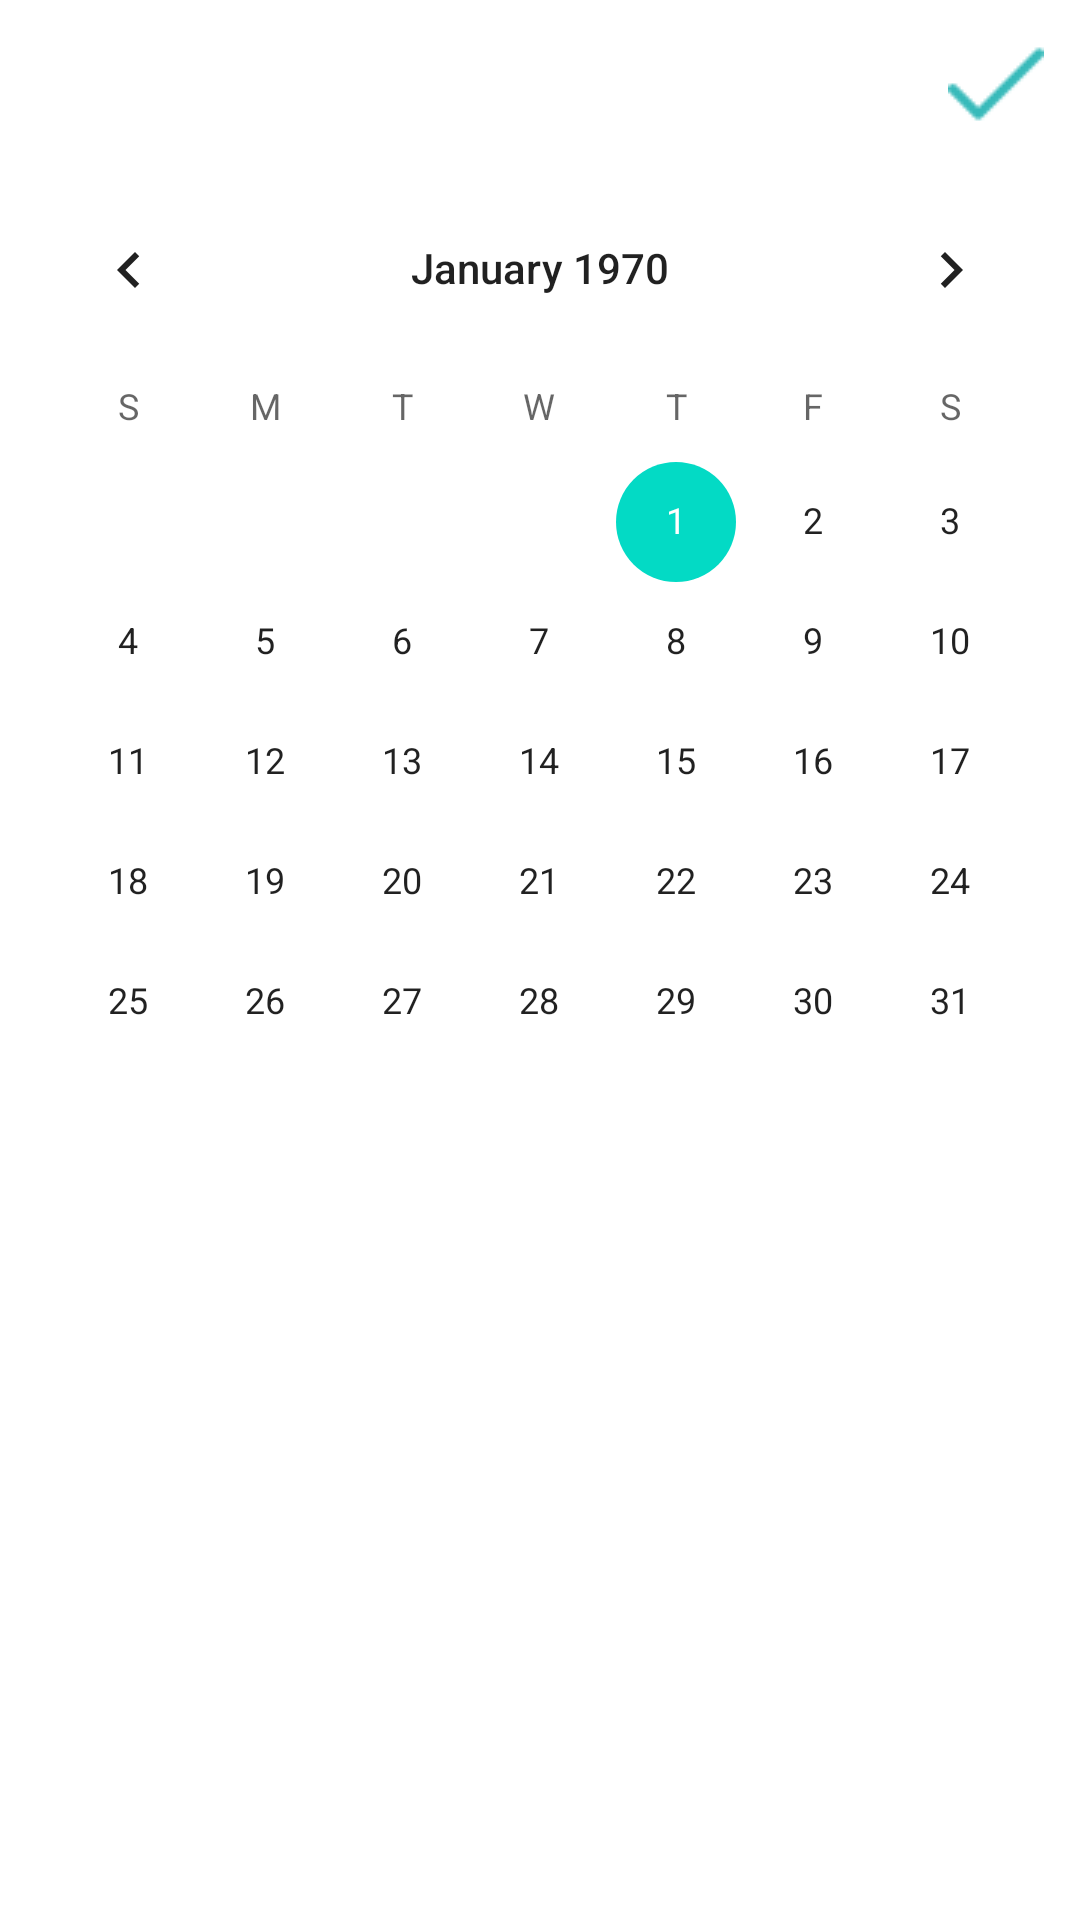

Named icons in this screenshot (1080 x 1920) and their centers, (x=x, y=y):
tick: (x=996, y=84)
